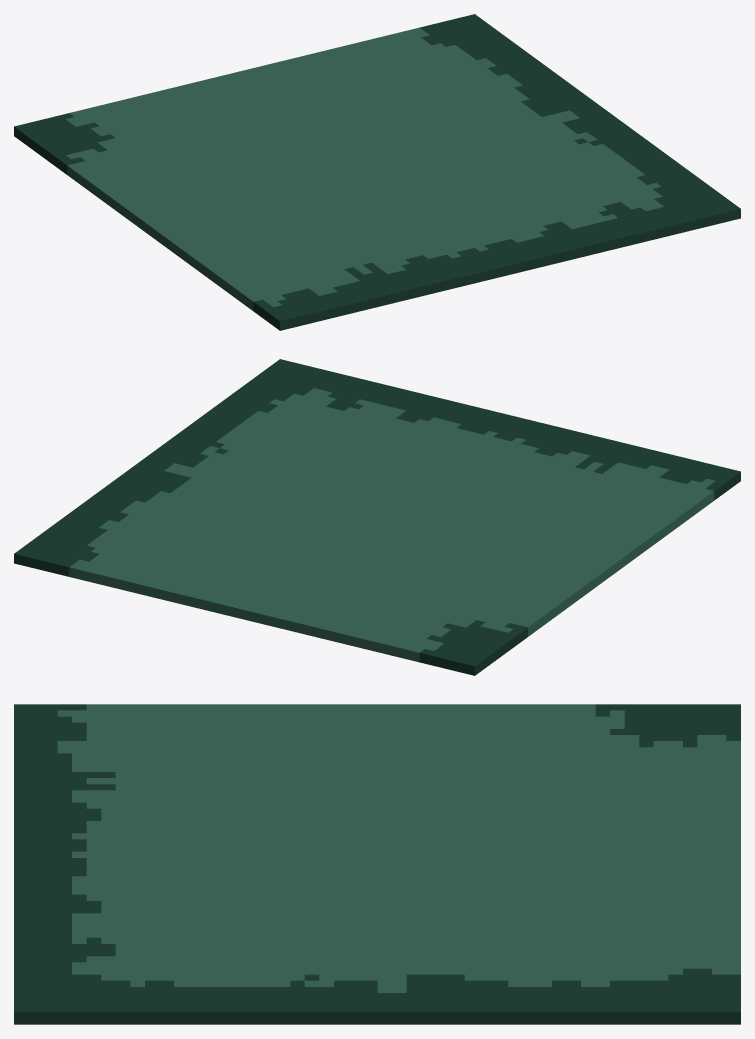
The model's file is TwoSideGround.obj.
The picture shows the model from 3 angles, top to bottom: view 1: azimuth 30°, elevation 25°; view 2: azimuth 150°, elevation 25°; view 3: azimuth 270°, elevation 25°; orthographic projection. The views are drawn at different scales.
Bounding box in the file's own units: 5 × 0.1 × 5.
1 material, 1 textured.
